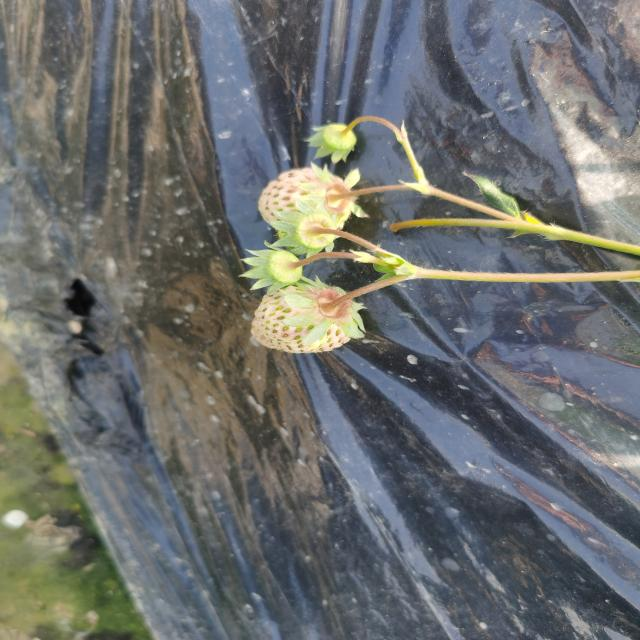stem: (321, 276, 401, 314), (327, 185, 397, 205)
strawberry: (251, 285, 357, 353), (258, 168, 354, 220)
